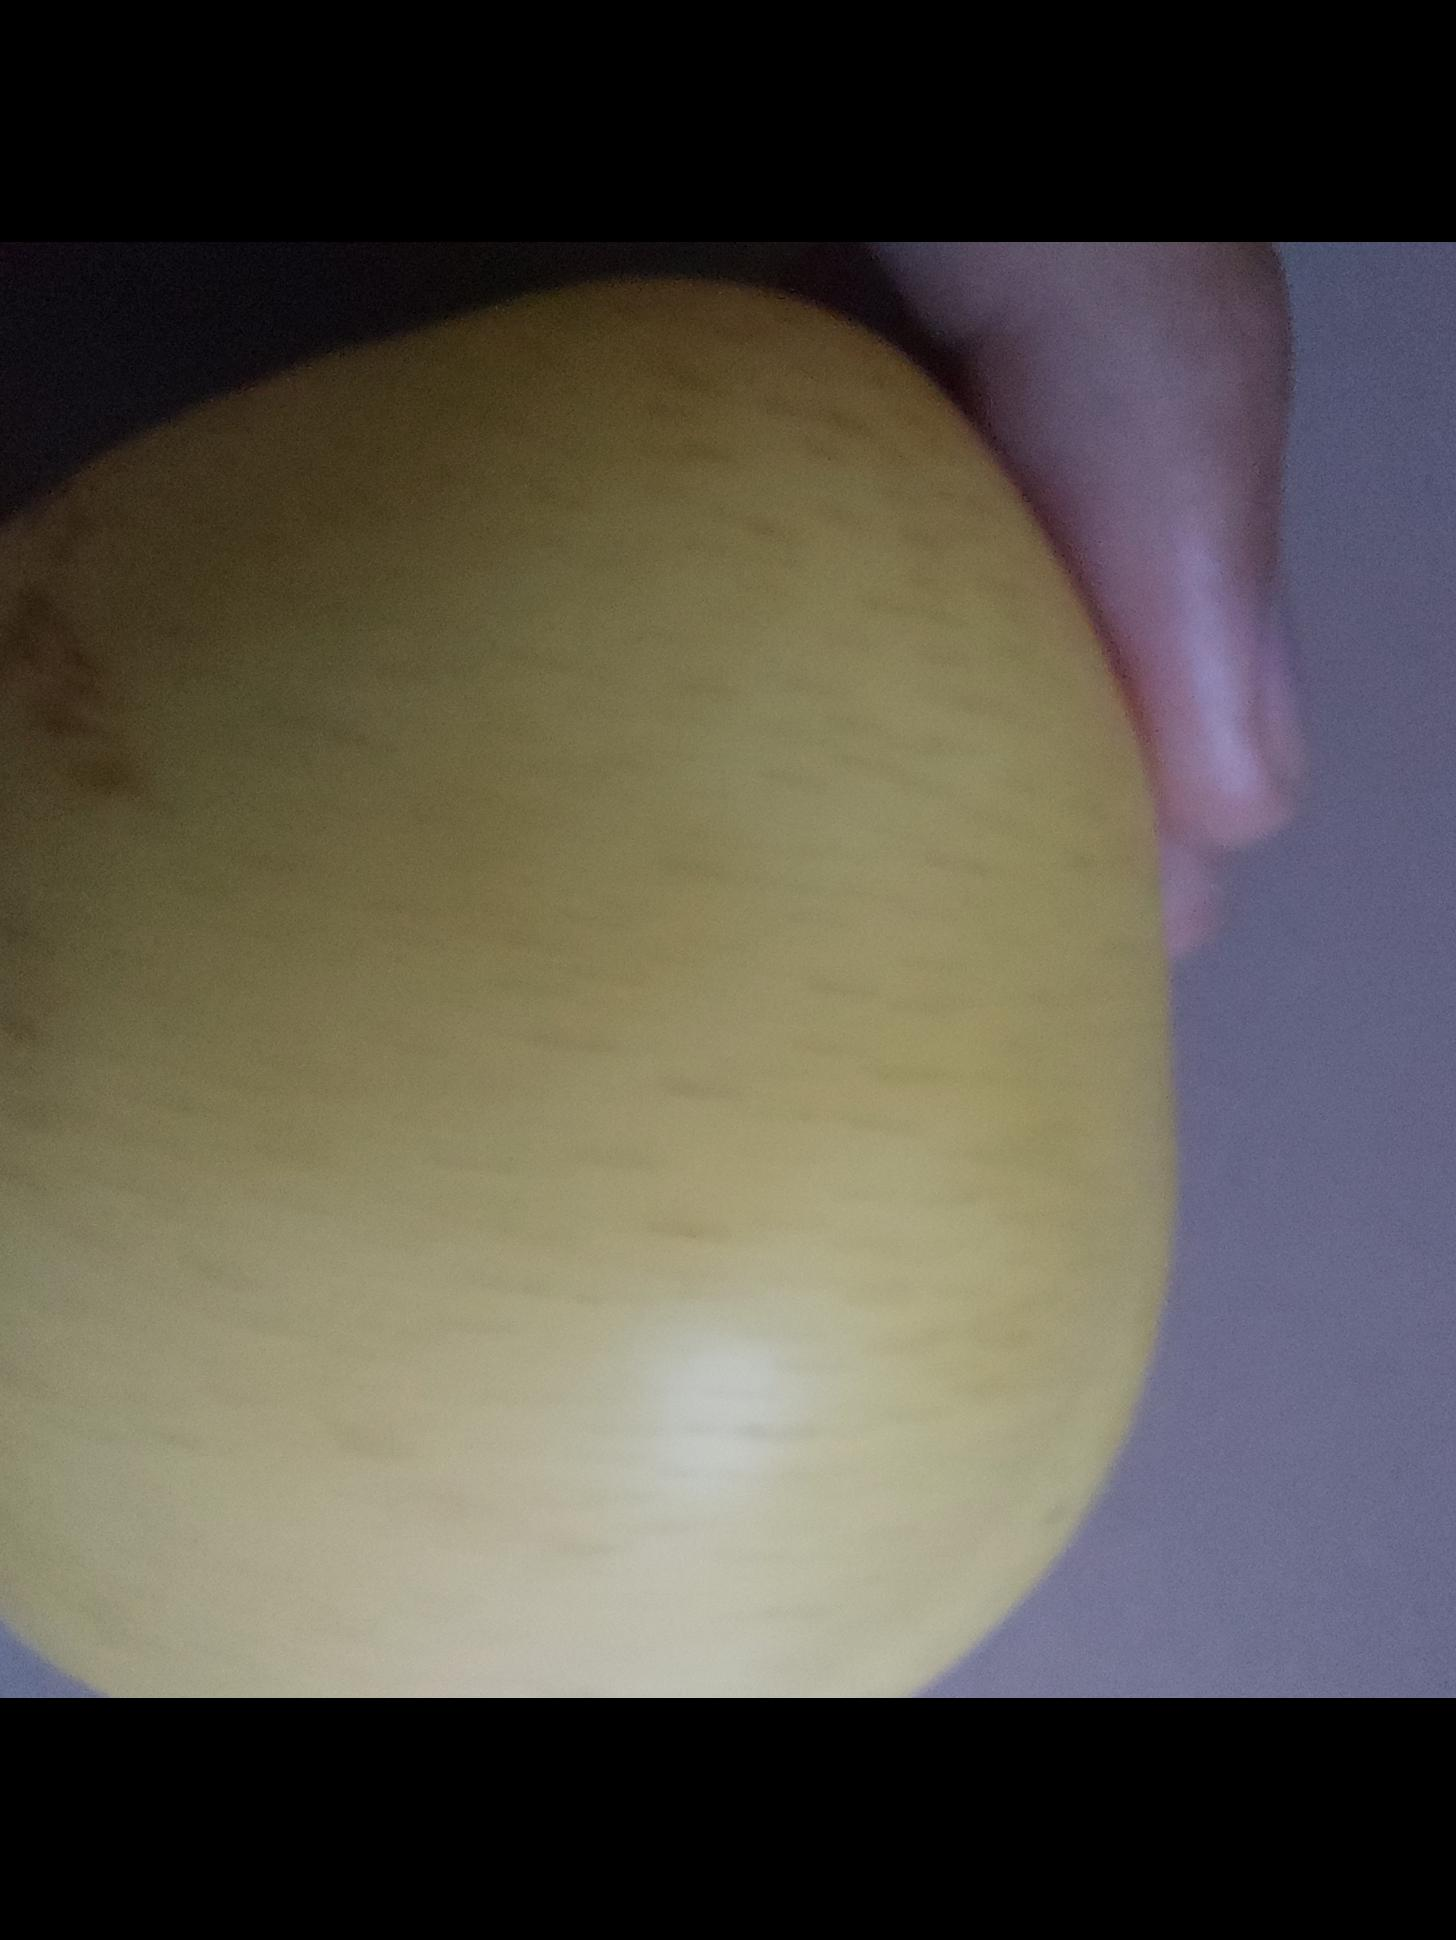Good Pear: (0, 539, 1096, 1698)
